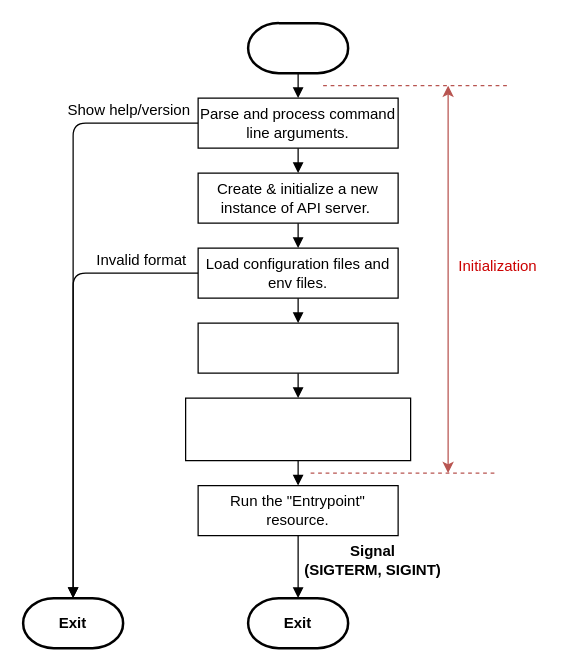
Image size: 569x670. Some labels were removed from this diagram. Each missing label, with the centre of its shape:
Get the "Entrypoint" resource.: [297,347]
main(): [297,47]
Resolve resource dependencies and create instances based on the configs.: [297,429]
